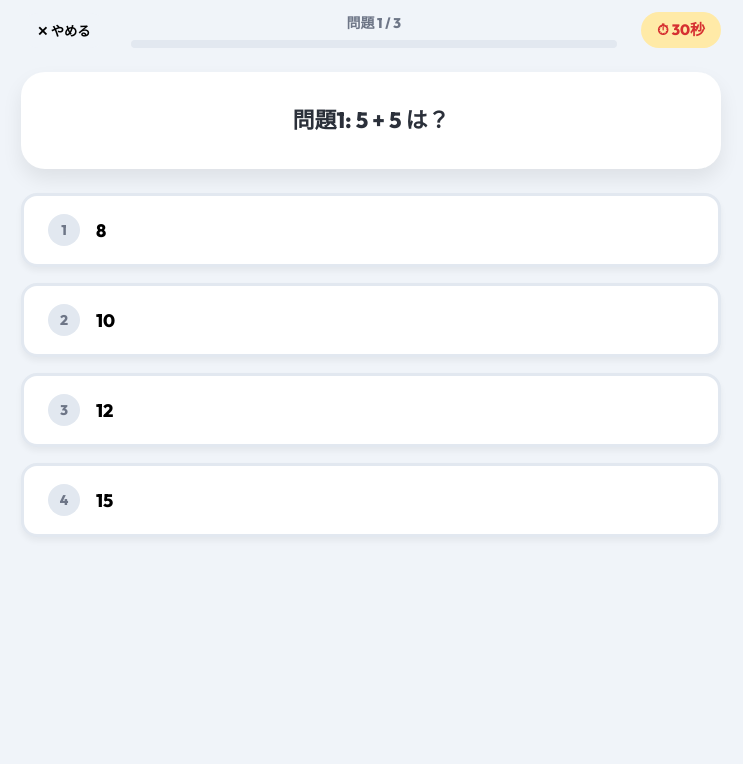
it: クイズ連打・放置防止テスト (Quiz Anti-Gaming Tests) › 問題表示直後(800ms未満)は選択肢をクリックしても解答処理が走らないこと（連打ガード）
This screenshot has width=743, height=764.
Click the text "10". click: point(106, 320)
box: [96,309,115,332]
Wait 850 ms
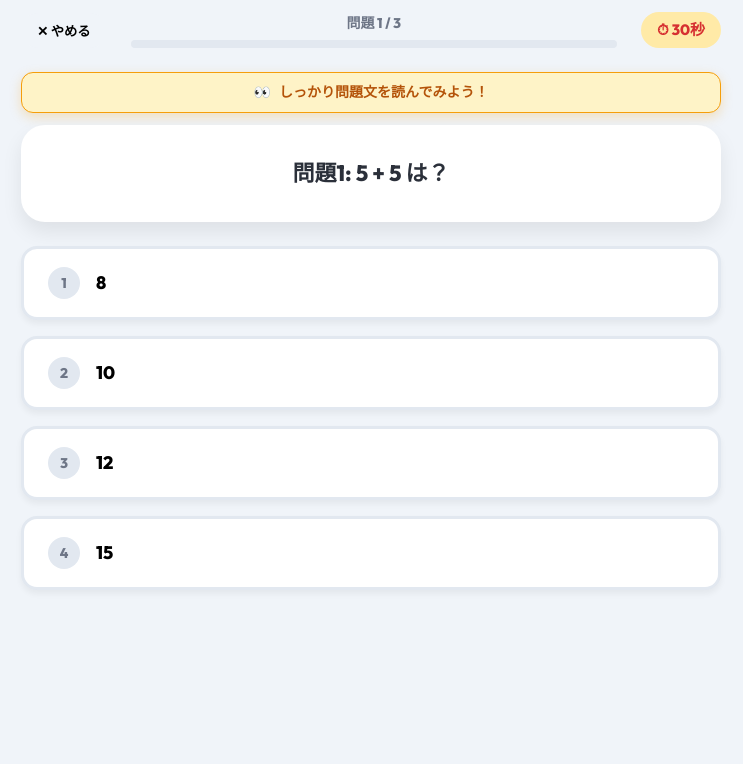
Expected: the text "つぎの問題へ" is not shown
// 再度クリックすると解答できること
Click the text "10". click: point(106, 373)
box: [96,361,115,384]
(page scrolled)
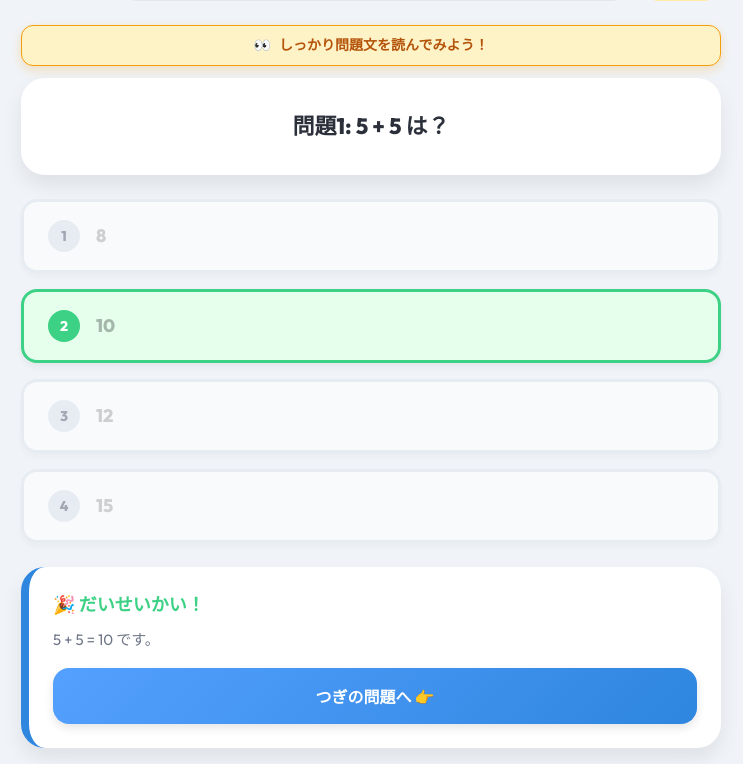
Expected: the button "つぎの問題へ 👉" is shown, [53,668,697,724]
